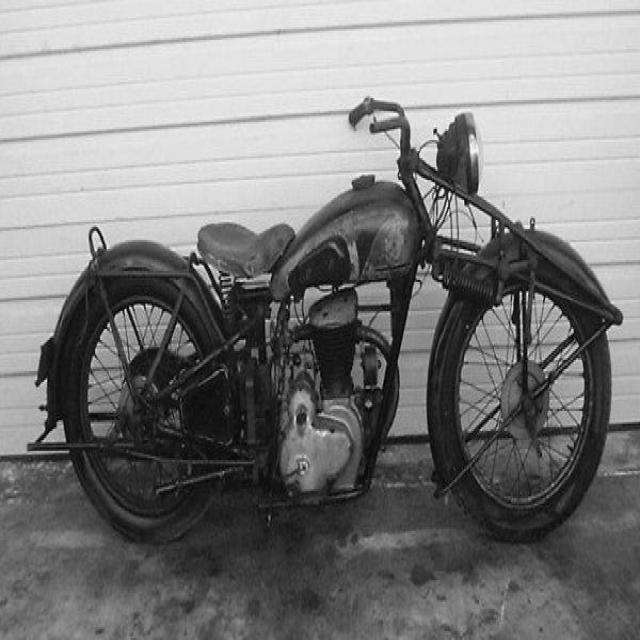Motorcycle: (29, 96, 624, 541)
